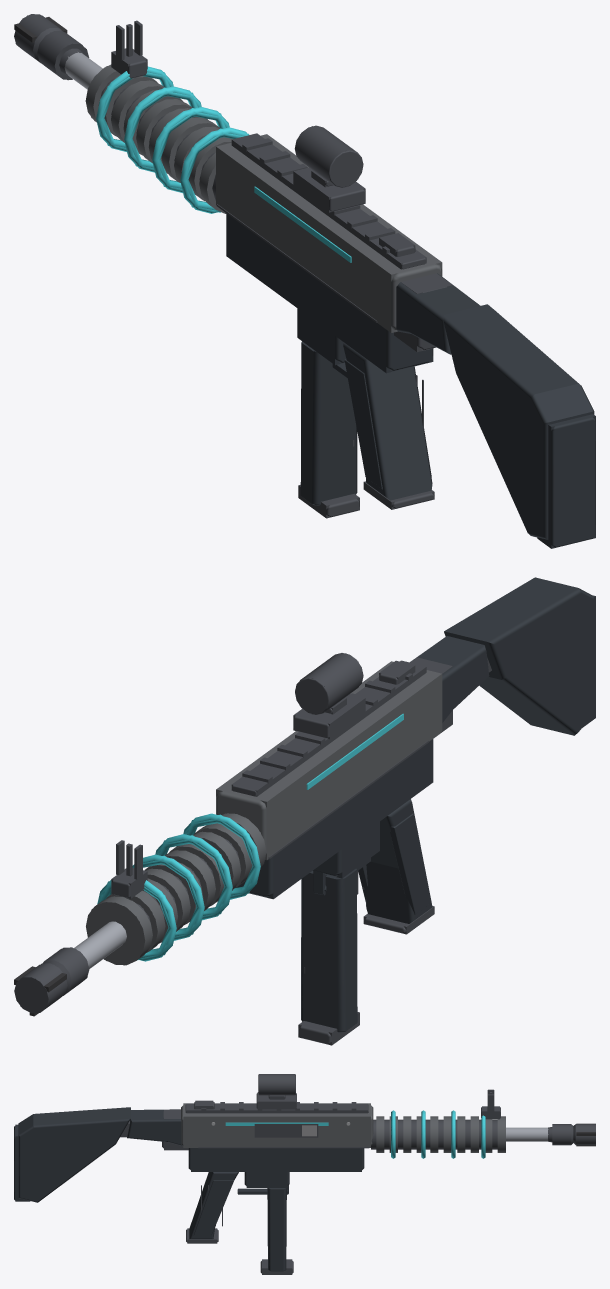
The model's file is c_nimbus.glb.
The picture shows the model from 3 angles, top to bottom: view 1: azimuth 30°, elevation 25°; view 2: azimuth 150°, elevation 25°; view 3: azimuth 270°, elevation 25°; orthographic projection. The views are drawn at different scales.
Parts seen in each view (by area): view 1: L0, L1; view 2: L0, L1; view 3: L0, L1.
Boxes of the visible parts, bbox=[...] form: L0: bbox=[14, 14, 595, 547]; L1: bbox=[15, 15, 595, 548]; L0: bbox=[14, 577, 595, 1044]; L1: bbox=[15, 595, 595, 1045]; L0: bbox=[14, 1074, 595, 1273]; L1: bbox=[15, 1074, 595, 1274].
Size of the model in its own units: 0.0664 by 0.288 by 0.7758.
